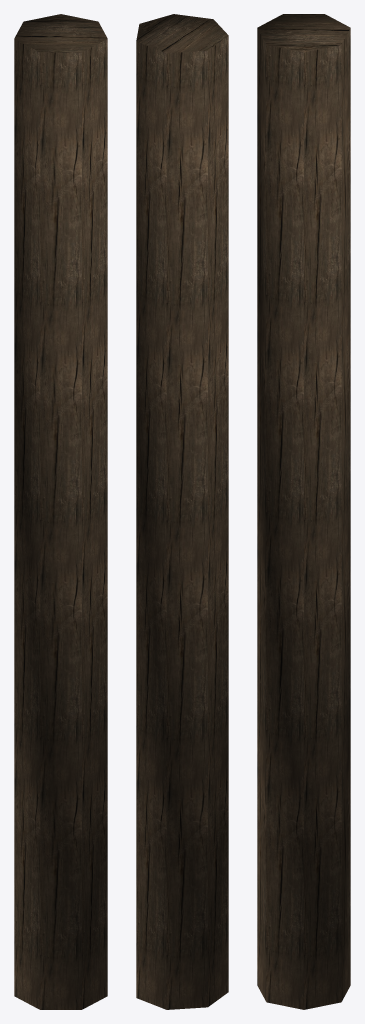
File: tpl_ww_revetment_piles.glb
3 views of the same model, side by side, from view 1: azimuth 90°, elevation 25°; view 2: azimuth 150°, elevation 25°; view 3: azimuth 270°, elevation 25° (orthographic).
Visible parts, largest first — view 1: tpl_ww_revetment_piles; view 2: tpl_ww_revetment_piles; view 3: tpl_ww_revetment_piles.
Boxes of the visible parts, box(x1,y1,x2,y2) form: tpl_ww_revetment_piles: box(14, 14, 107, 1009); tpl_ww_revetment_piles: box(136, 14, 228, 1009); tpl_ww_revetment_piles: box(257, 14, 350, 1009).
Size of the model in its own units: 0.1901 by 2.2 by 0.195.
1 material, 1 textured.
